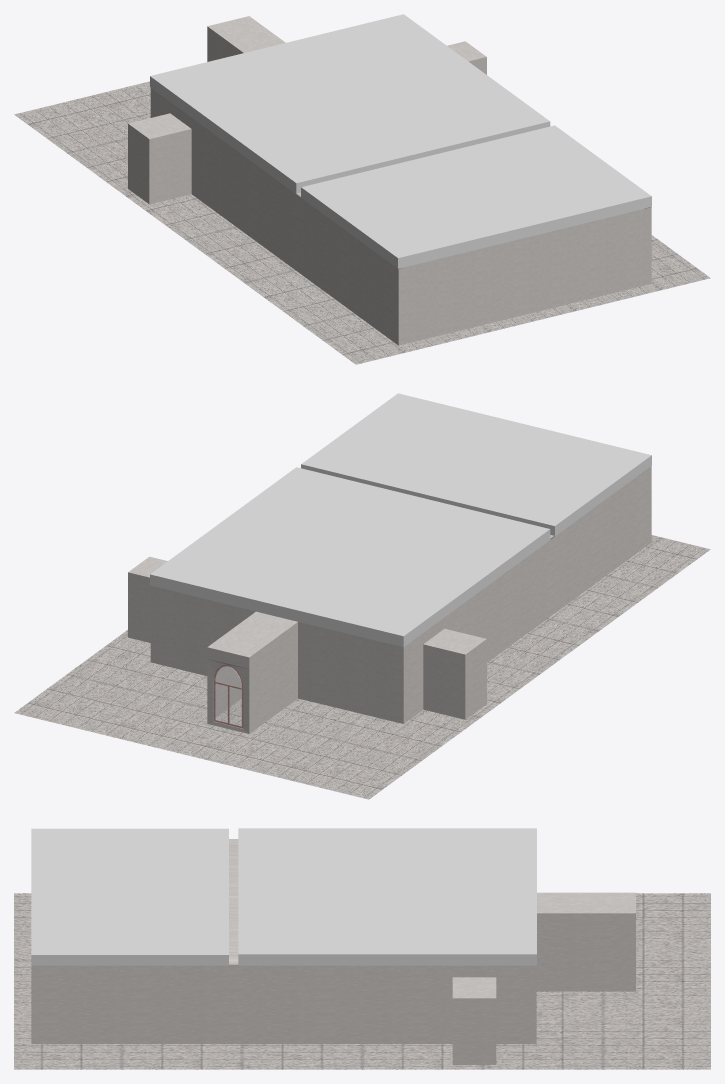
The model's file is Escenario.glb.
The picture shows the model from 3 angles, top to bottom: view 1: azimuth 30°, elevation 25°; view 2: azimuth 150°, elevation 25°; view 3: azimuth 270°, elevation 25°; orthographic projection.
Parts seen in each view (by area): view 1: Paredes, Techo, Techo.001, Ground; view 2: Paredes, Techo, Ground, Techo.001; view 3: Paredes, Techo, Ground, Techo.001, Paredes2.
Part boxes in pixels (x1,y1,x2,y2): Paredes: (128, 16, 651, 345); Techo: (150, 14, 550, 194); Techo.001: (301, 125, 651, 268); Ground: (14, 81, 710, 364); Paredes: (128, 466, 651, 733); Techo: (150, 467, 550, 647); Ground: (14, 535, 710, 799); Techo.001: (301, 393, 651, 536); Paredes: (31, 892, 635, 1064); Techo: (238, 828, 536, 965); Ground: (14, 893, 710, 1069); Techo.001: (31, 828, 228, 965); Paredes2: (229, 839, 238, 965).
Bounding box in the file's own units: 16.83 × 4.02 × 28.09.
7 materials, 4 textured.
